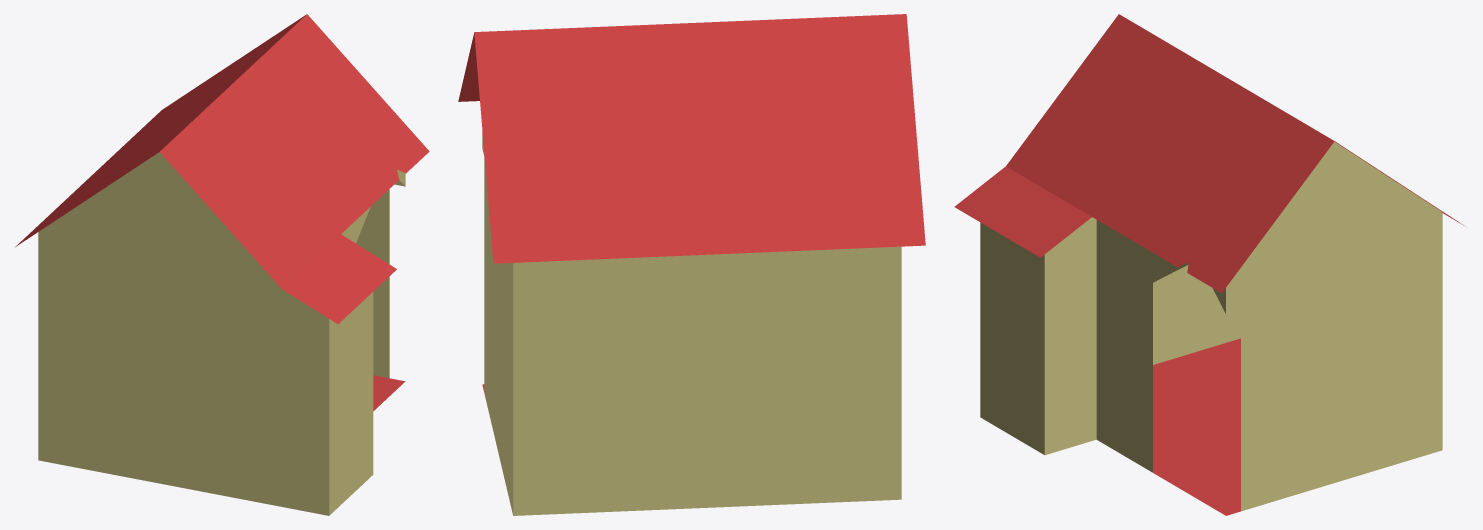
3 views of the same model, side by side, from view 1: azimuth 30°, elevation 25°; view 2: azimuth 150°, elevation 25°; view 3: azimuth 270°, elevation 25° (orthographic). The views are drawn at different scales.
Bounding box in the file's own units: 19.1 × 20.55 × 15.5.
